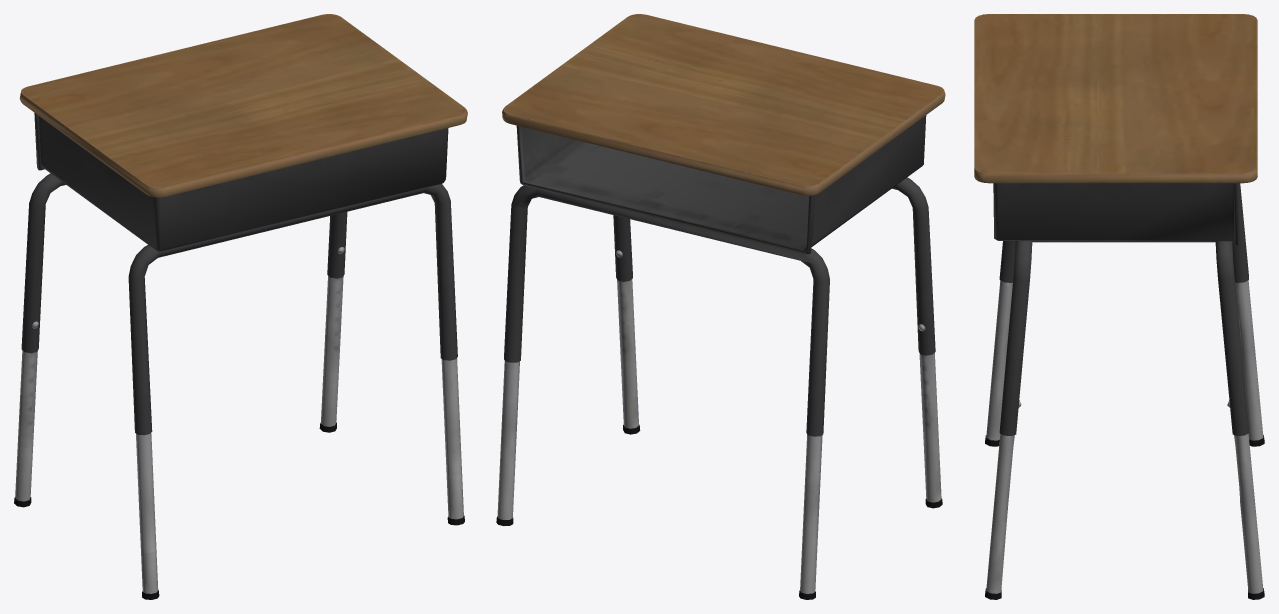
The model's file is ph_SchoolDesk_01.glb.
3 renders of one model, left to right at view 1: azimuth 30°, elevation 25°; view 2: azimuth 150°, elevation 25°; view 3: azimuth 270°, elevation 25°, orthographic. The views are drawn at different scales.
Visible parts, largest first — view 1: SchoolDesk_01; view 2: SchoolDesk_01; view 3: SchoolDesk_01.
Boxes of the visible parts, bbox=[...] form: SchoolDesk_01: bbox=[14, 14, 467, 599]; SchoolDesk_01: bbox=[496, 14, 945, 599]; SchoolDesk_01: bbox=[974, 14, 1264, 599].
Size of the model in its own units: 0.7102 by 0.8826 by 0.5438.
1 material, 1 textured.
